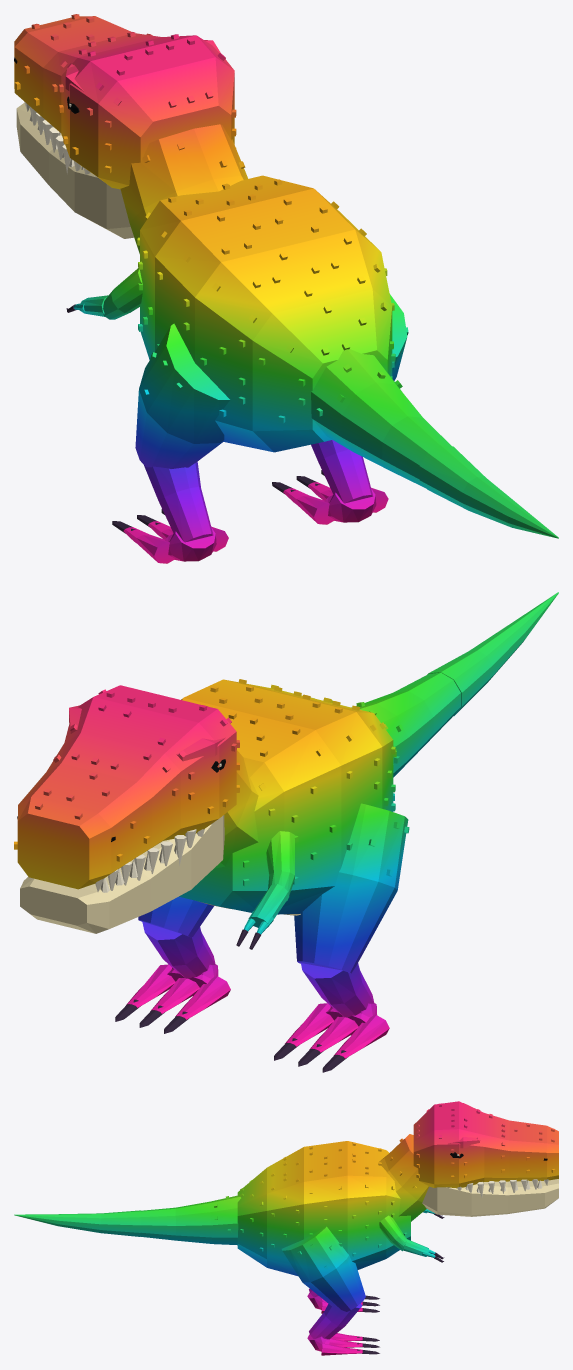
File: Trex.fbx
The picture shows the model from 3 angles, top to bottom: view 1: azimuth 30°, elevation 25°; view 2: azimuth 150°, elevation 25°; view 3: azimuth 270°, elevation 25°; orthographic projection. The views are drawn at different scales.
Parts seen in each view (by area): view 1: Import3D_Core, Import3D_Head, Import3D_Tail, Import3D_LegBL, Import3D_Neck, Import3D_Jaw, Import3D_Tail1, Import3D_KneeBL, Import3D_FootBL, Import3D_FootBR, Import3D_KneeBR, Import3D_ArmL (+1 smaller); view 2: Import3D_Head, Import3D_Core, Import3D_LegBL, Import3D_Jaw, Import3D_Tail, Import3D_FootBL, Import3D_FootBR, Import3D_Tail1, Import3D_KneeBL, Import3D_KneeBR, Import3D_Neck, Import3D_LegBR (+2 smaller); view 3: Import3D_Core, Import3D_Head, Import3D_LegBR, Import3D_Jaw, Import3D_Tail, Import3D_Neck, Import3D_Tail1, Import3D_FootBR, Import3D_KneeBR, Import3D_ArmR, Import3D_FootBL, Import3D_ForearmR.
Part boxes in pixels (x1,y1,x2,y2): Import3D_Core: [137, 175, 395, 452]; Import3D_Head: [14, 14, 236, 189]; Import3D_Tail: [311, 349, 451, 488]; Import3D_LegBL: [135, 323, 229, 468]; Import3D_Neck: [120, 124, 248, 253]; Import3D_Jaw: [16, 103, 134, 238]; Import3D_Tail1: [419, 445, 558, 538]; Import3D_KneeBL: [144, 462, 213, 542]; Import3D_FootBL: [112, 509, 228, 563]; Import3D_FootBR: [272, 470, 388, 524]; Import3D_KneeBR: [311, 440, 373, 503]; Import3D_ArmL: [103, 268, 142, 319]; Import3D_Head: [14, 685, 239, 891]; Import3D_Core: [179, 679, 396, 915]; Import3D_LegBL: [294, 803, 409, 973]; Import3D_Jaw: [20, 815, 224, 933]; Import3D_Tail: [351, 672, 460, 777]; Import3D_FootBL: [274, 1003, 389, 1072]; Import3D_FootBR: [115, 964, 230, 1033]; Import3D_Tail1: [427, 592, 558, 716]; Import3D_KneeBL: [301, 963, 374, 1017]; Import3D_KneeBR: [142, 921, 215, 978]; Import3D_Neck: [214, 750, 258, 868]; Import3D_LegBR: [138, 896, 213, 937]; Import3D_Core: [237, 1141, 410, 1275]; Import3D_Head: [413, 1101, 558, 1197]; Import3D_LegBR: [281, 1226, 365, 1311]; Import3D_Jaw: [422, 1179, 558, 1216]; Import3D_Tail: [140, 1195, 240, 1245]; Import3D_Neck: [378, 1134, 428, 1221]; Import3D_Tail1: [14, 1210, 140, 1236]; Import3D_FootBR: [307, 1333, 379, 1355]; Import3D_KneeBR: [309, 1303, 361, 1339]; Import3D_ArmR: [379, 1215, 406, 1251]; Import3D_FootBL: [307, 1292, 379, 1313]; Import3D_ForearmR: [403, 1239, 444, 1262].
Bounding box in the file's own units: 316 × 491 × 1124.
1 material, 1 textured.
